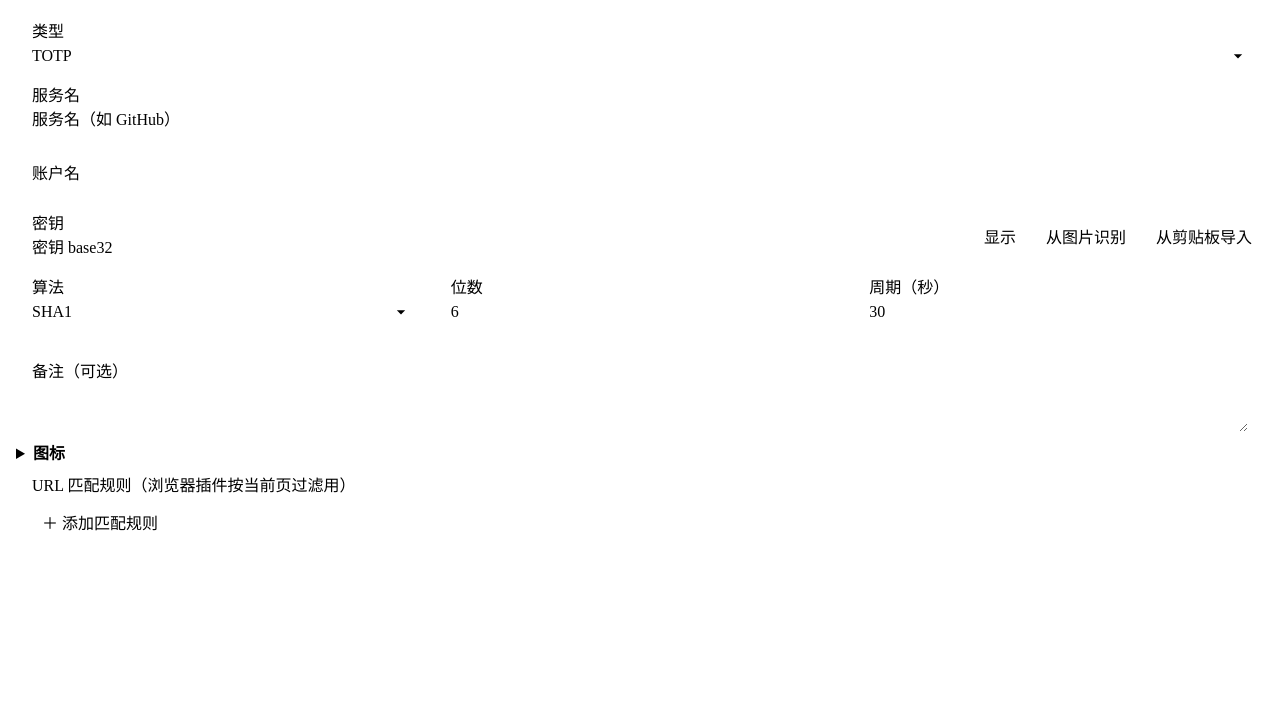
Scenario: EntryForm 提交校验守卫（digits/period/counter 三向） › period 非法（0）：periodError 阻止提交
The width and height of the screenshot is (1280, 720).
Replace the text in the number field labelled "周期（秒）" with "0" at (1059, 312), box x1=869 y1=300 x2=1248 y2=324
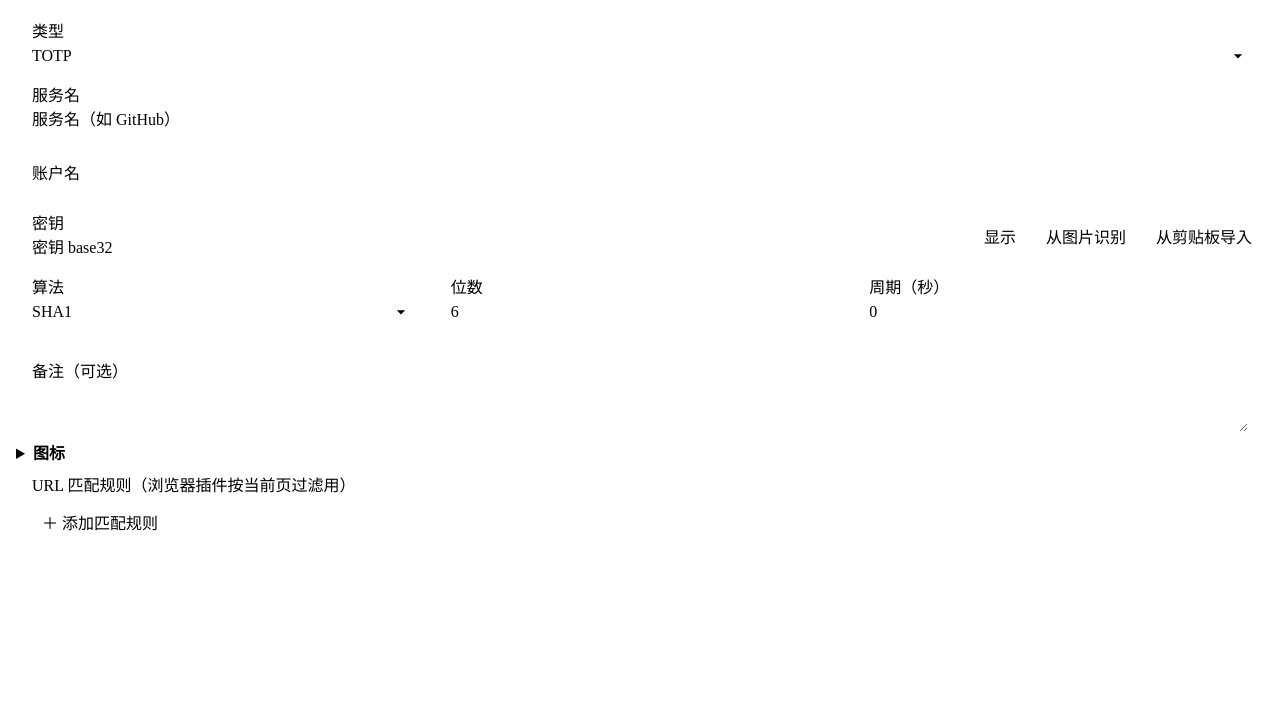
Submit the form
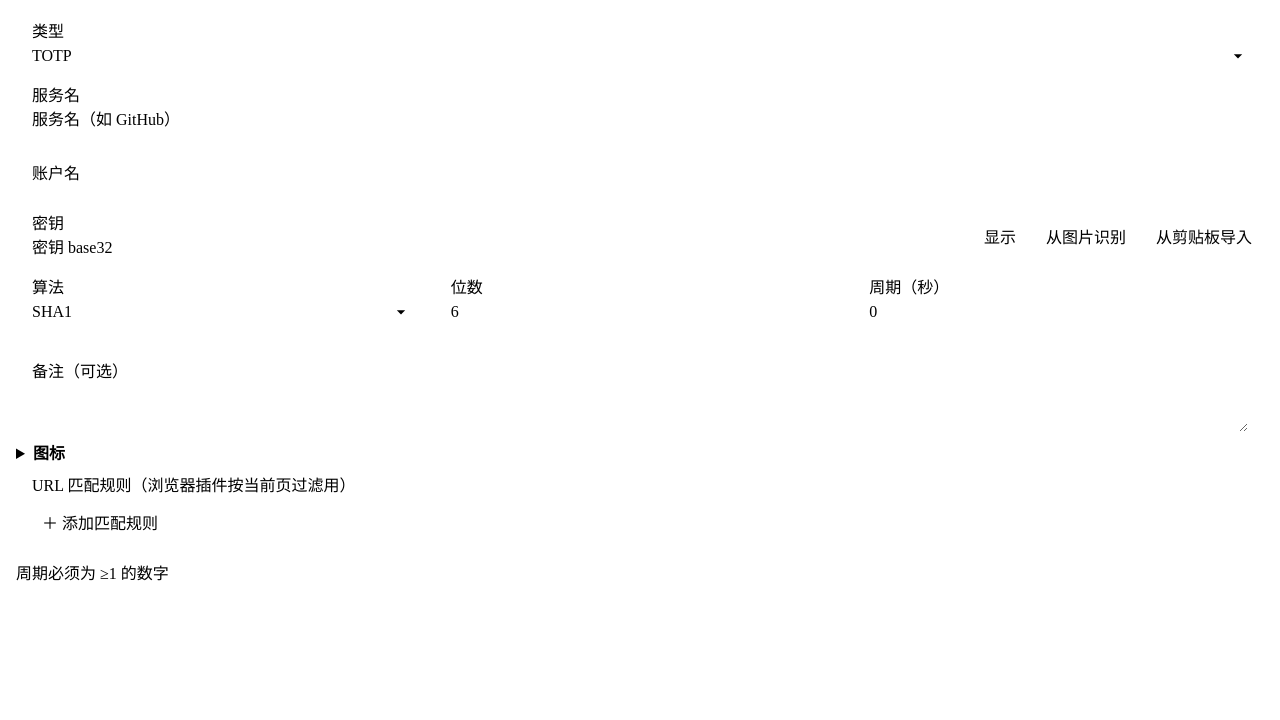
expect the form shows "周期必须为 ≥1 的数字": met, box x1=16 y1=565 x2=169 y2=582
